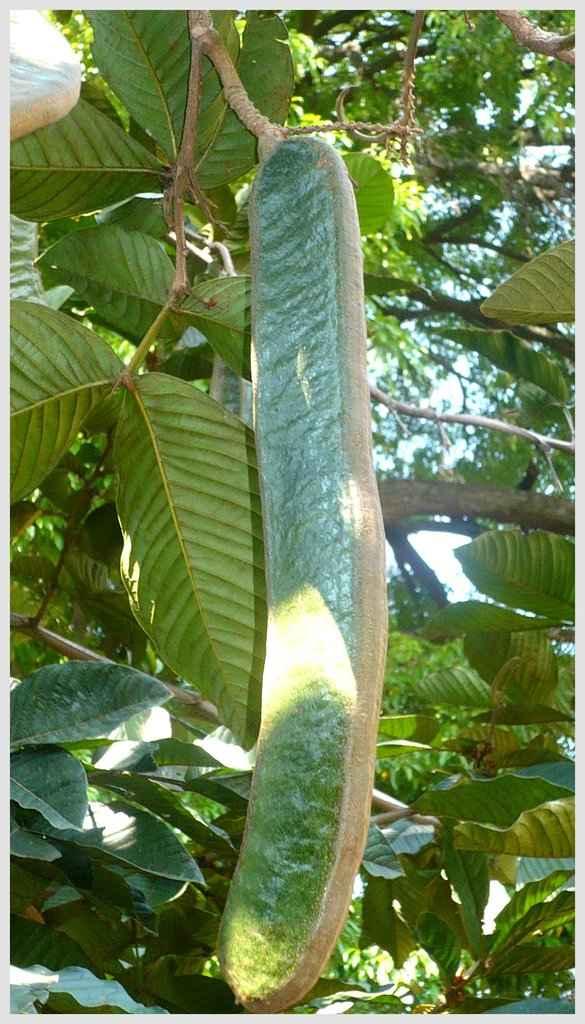Tree: (10, 10, 574, 1013)
